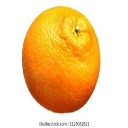orange: (21, 7, 101, 113)
